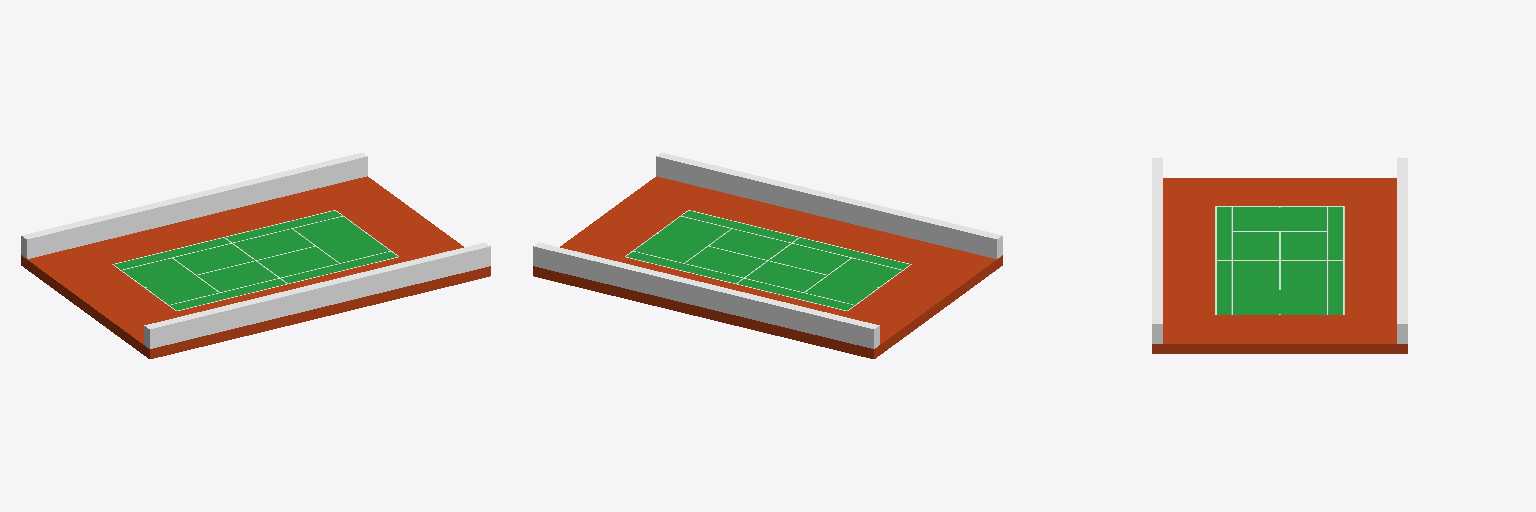
3 views of the same model, side by side, from view 1: azimuth 30°, elevation 25°; view 2: azimuth 150°, elevation 25°; view 3: azimuth 270°, elevation 25° (orthographic).
Visible parts, largest first — view 1: Plano.001, Plano; view 2: Plano.001, Plano; view 3: Plano.001, Plano.
Part boxes in pixels (bbox=[...]): Plano.001: bbox=[21, 153, 490, 358]; Plano: bbox=[112, 210, 398, 311]; Plano.001: bbox=[533, 153, 1002, 358]; Plano: bbox=[625, 210, 911, 311]; Plano.001: bbox=[1152, 158, 1407, 353]; Plano: bbox=[1215, 206, 1344, 314].
Bounding box in the file's own units: 33.54 × 2.83 × 21.88.
3 materials, 1 textured.